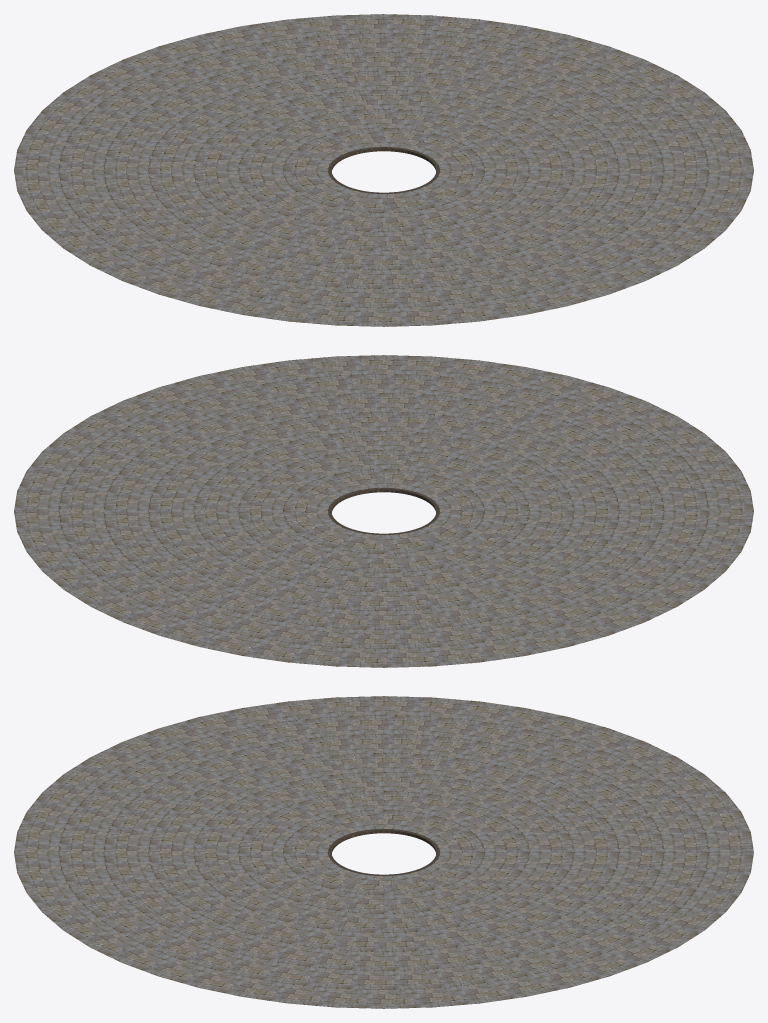
3 views of the same model, one above another, from view 1: azimuth 30°, elevation 25°; view 2: azimuth 150°, elevation 25°; view 3: azimuth 270°, elevation 25° (orthographic).
Parts seen in each view (by area): view 1: SM_Library_Floor_Large_A_LOD0; view 2: SM_Library_Floor_Large_A_LOD0; view 3: SM_Library_Floor_Large_A_LOD0.
Boxes of the visible parts, box(x1,y1,x2,y2) form: SM_Library_Floor_Large_A_LOD0: box(14, 14, 753, 326); SM_Library_Floor_Large_A_LOD0: box(14, 355, 753, 667); SM_Library_Floor_Large_A_LOD0: box(14, 696, 753, 1008).
Bounding box in the file's own units: 70.33 × 0.3048 × 70.33.
Materials: 2 (2 with a texture image).
